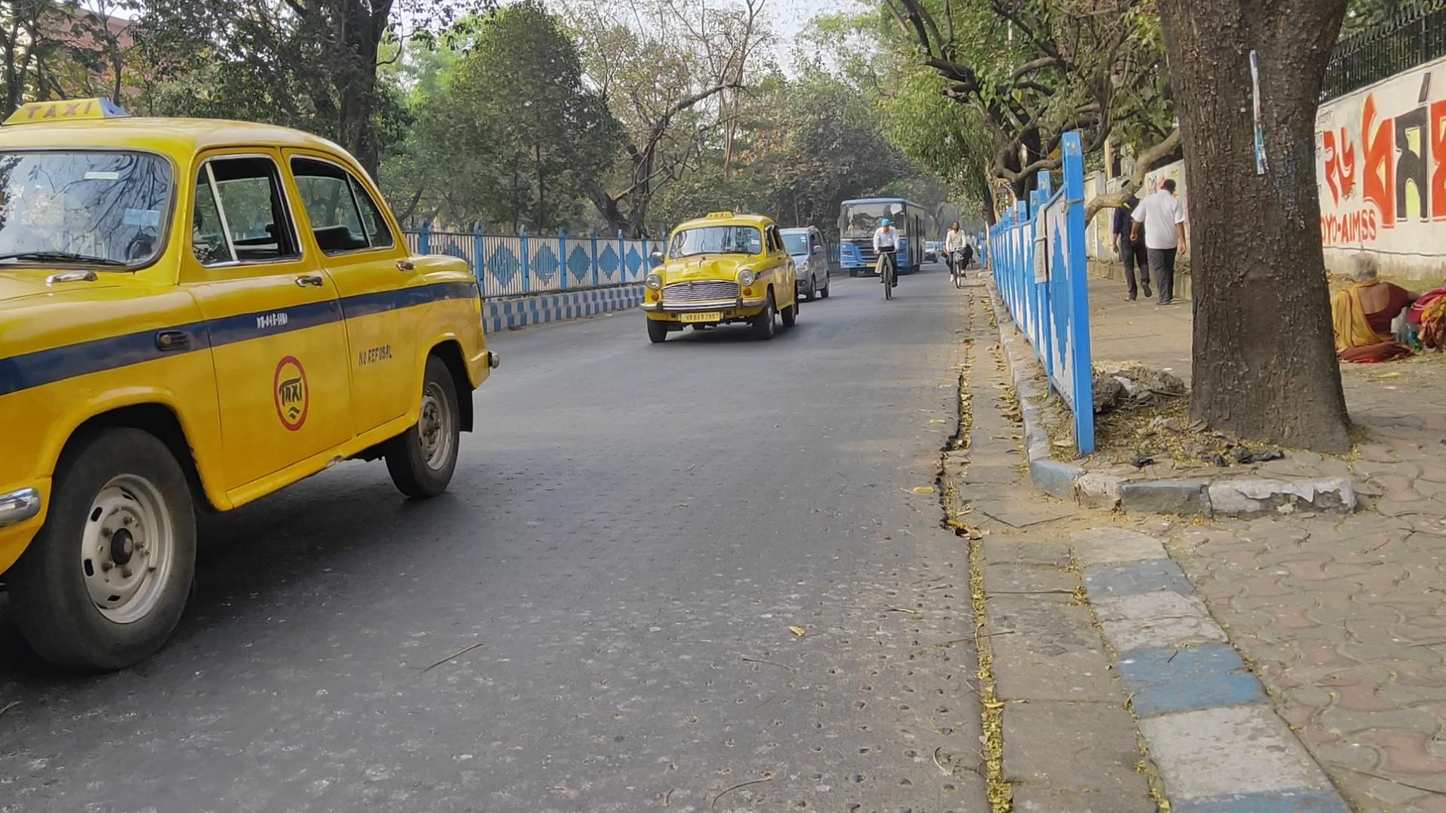Bus: (840, 197, 926, 276)
bike: (874, 219, 900, 302), (942, 222, 973, 290)
car: (1, 98, 499, 665), (642, 209, 800, 342), (779, 226, 832, 303)
